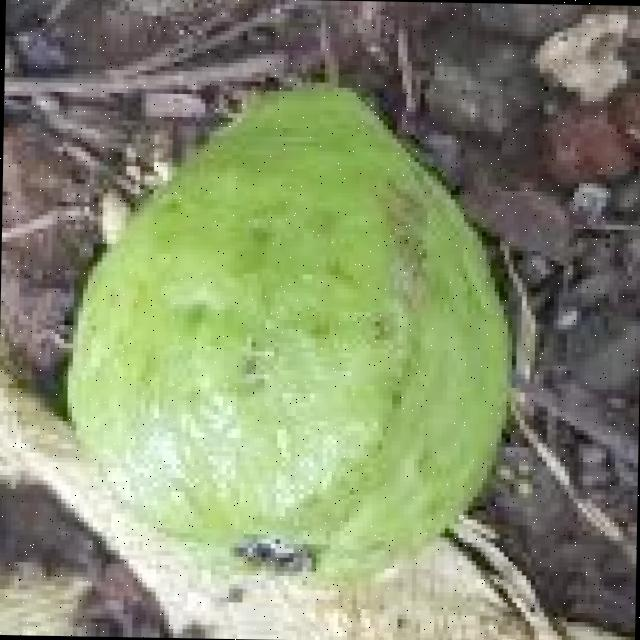Good_Guava 5-7 days: (67, 87, 507, 578)
